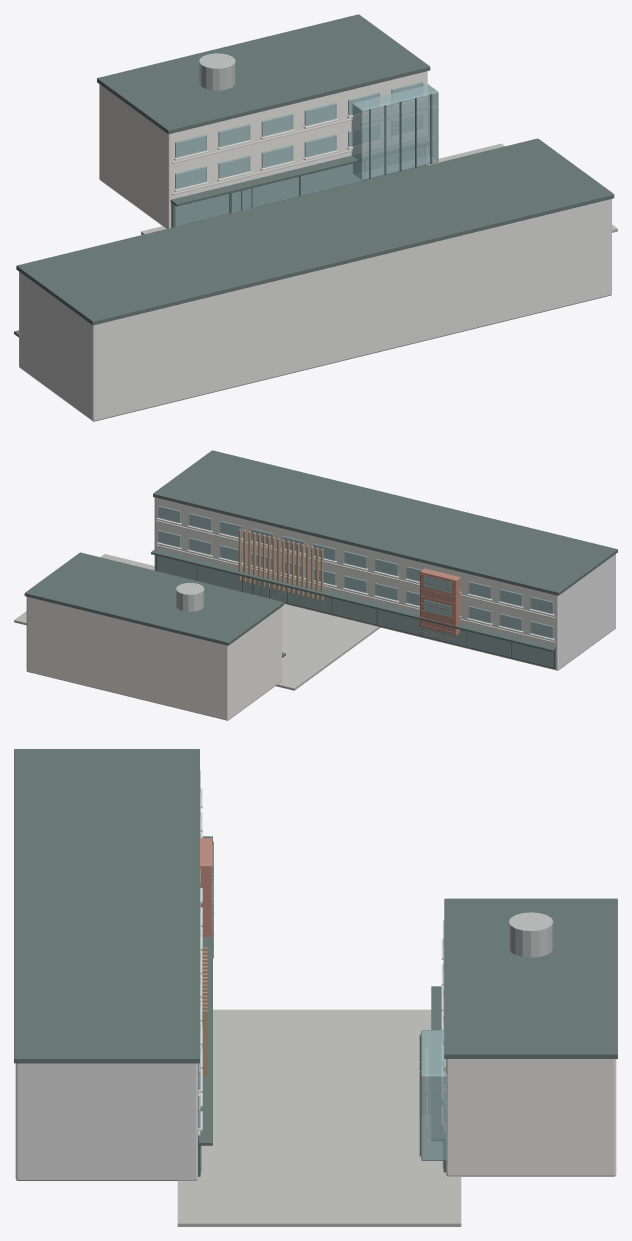
Rendered from xingfuli-east-materials.glb.
3 views of the same model, one above another, from view 1: azimuth 30°, elevation 25°; view 2: azimuth 150°, elevation 25°; view 3: azimuth 270°, elevation 25° (orthographic). The views are drawn at different scales.
Parts seen in each view (by area): view 1: xingfuli-east-materials; view 2: xingfuli-east-materials; view 3: xingfuli-east-materials.
Boxes of the visible parts, x1,y1,x2,y2 form: xingfuli-east-materials: (14, 14, 617, 421); xingfuli-east-materials: (14, 450, 617, 720); xingfuli-east-materials: (14, 749, 617, 1226).
Bounding box in the file's own units: 41.09 × 8.38 × 29.83.
